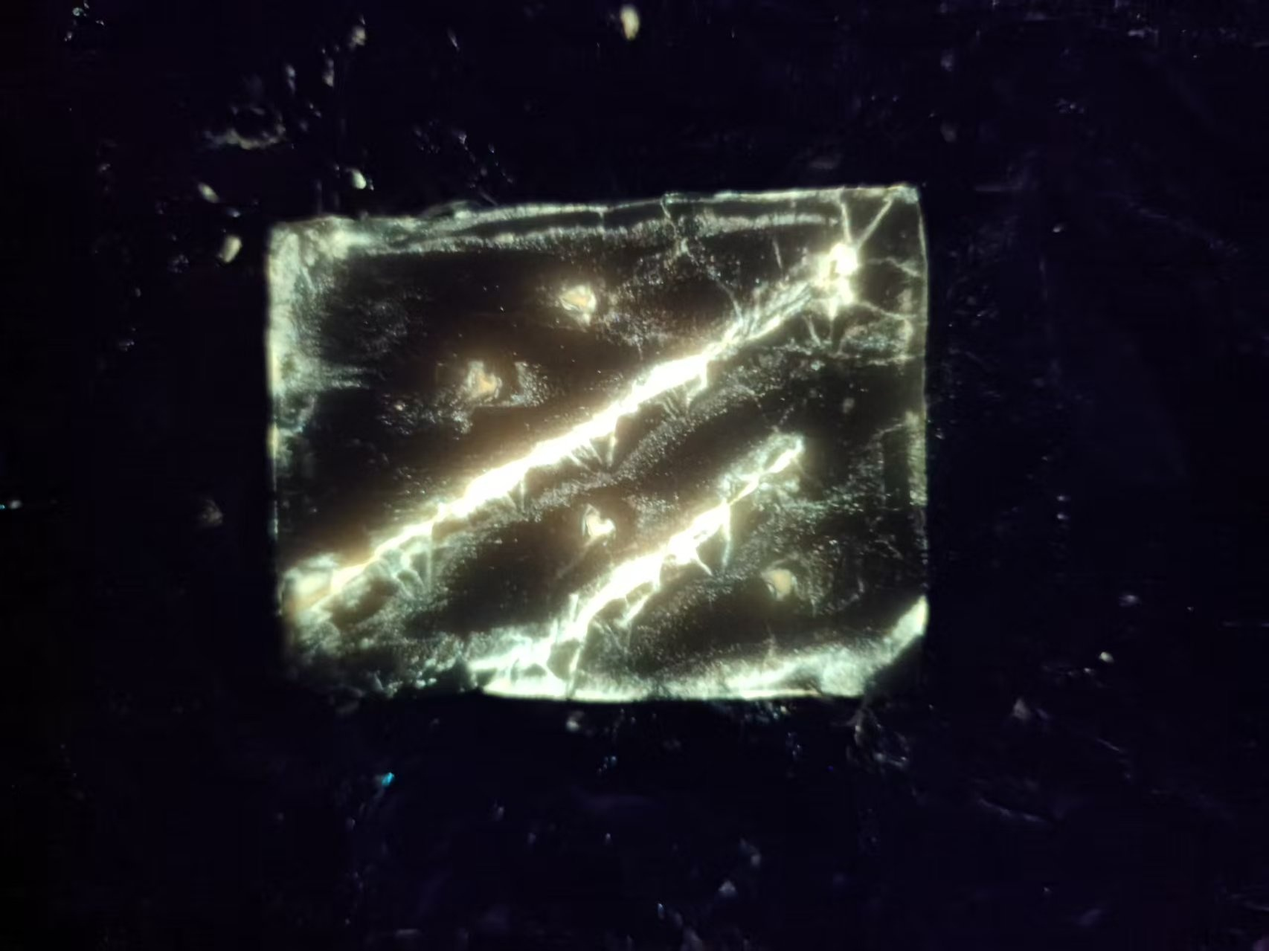Crater: (415, 347, 540, 423), (746, 545, 837, 626), (538, 265, 629, 344), (555, 496, 641, 558)
Fissure: (304, 244, 881, 619), (447, 418, 829, 686)
